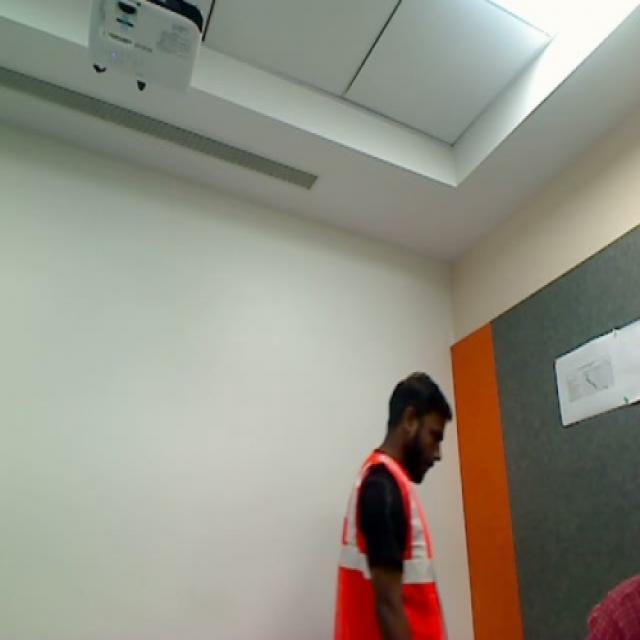safety_helmet: (331, 455, 449, 640)
